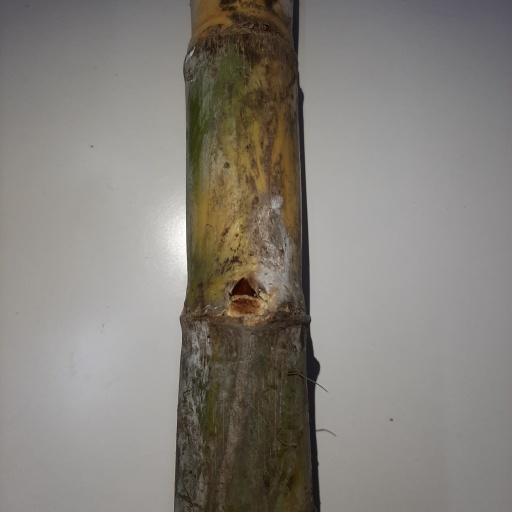Damage_Bud: (227, 276, 259, 305)
